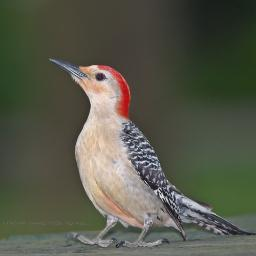Woodpecker: (44, 54, 256, 249)
